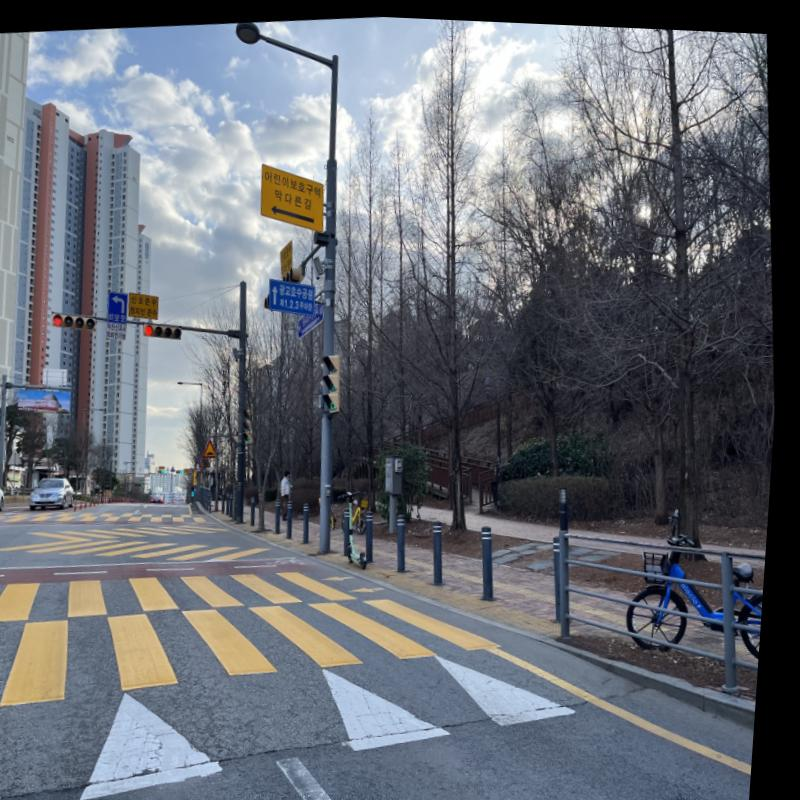red: (57, 313, 68, 326), (148, 323, 158, 334)
